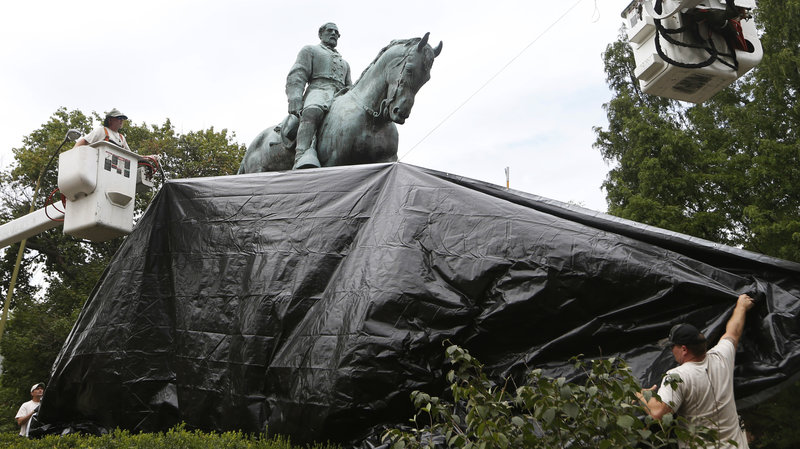person: (630, 288, 762, 449), (70, 106, 156, 167), (12, 378, 47, 438)
person-like: (278, 18, 358, 170)
